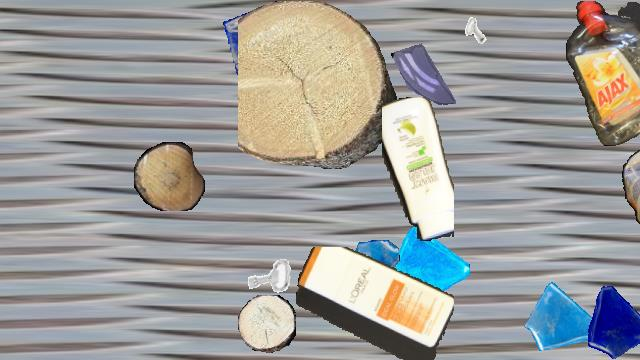glass: (376, 225, 470, 319), (223, 1, 315, 93), (524, 279, 604, 359), (390, 38, 460, 108), (579, 281, 640, 359), (340, 240, 400, 300)
metal: (295, 93, 353, 151), (242, 248, 298, 304), (457, 12, 495, 50)
plastic: (296, 247, 454, 359), (565, 1, 640, 145), (382, 97, 454, 241), (622, 136, 640, 226)
wood: (238, 1, 396, 169), (134, 142, 204, 210), (238, 295, 296, 353)
